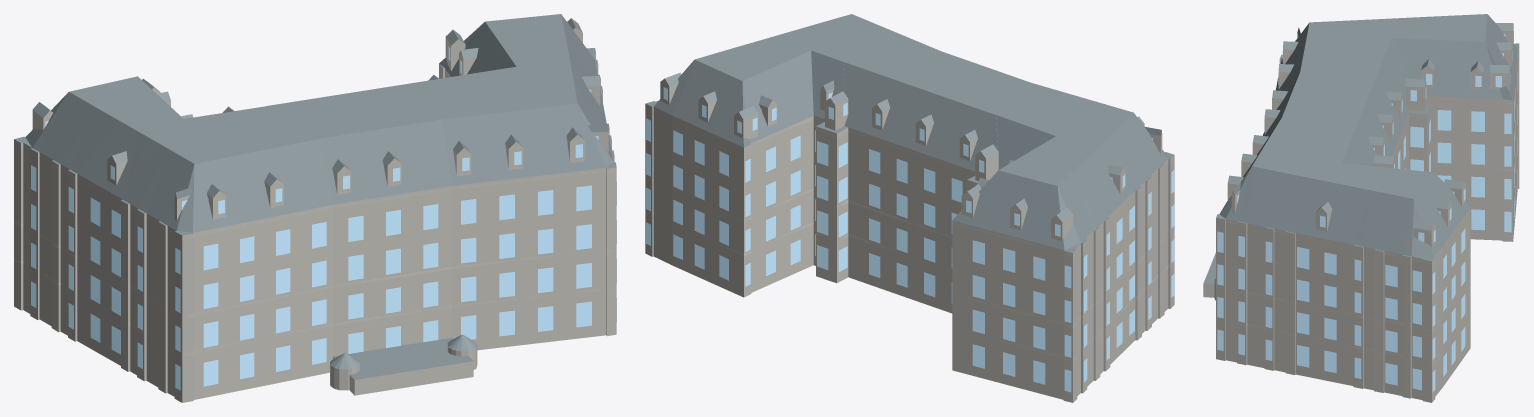
File: detail.glb
3 renders of one model, left to right at view 1: azimuth 30°, elevation 25°; view 2: azimuth 150°, elevation 25°; view 3: azimuth 270°, elevation 25°, orthographic. The views are drawn at different scales.
Visible parts, largest first — view 1: stone, roof, window, trim; view 2: stone, roof, window, trim; view 3: stone, roof, window, trim.
Part boxes in pixels (x1,y1,x2,y2): stone: (14,27,616,402); roof: (14,14,616,379); window: (31,46,616,390); trim: (14,55,614,356); stone: (645,78,1174,402); roof: (646,14,1174,252); window: (646,87,1174,392); trim: (645,106,1174,361); stone: (1203,24,1519,402); roof: (1203,14,1519,284); window: (1217,31,1517,392); trim: (1216,56,1518,363).
Size of the model in its own units: 52.93 by 21 by 32.44.
